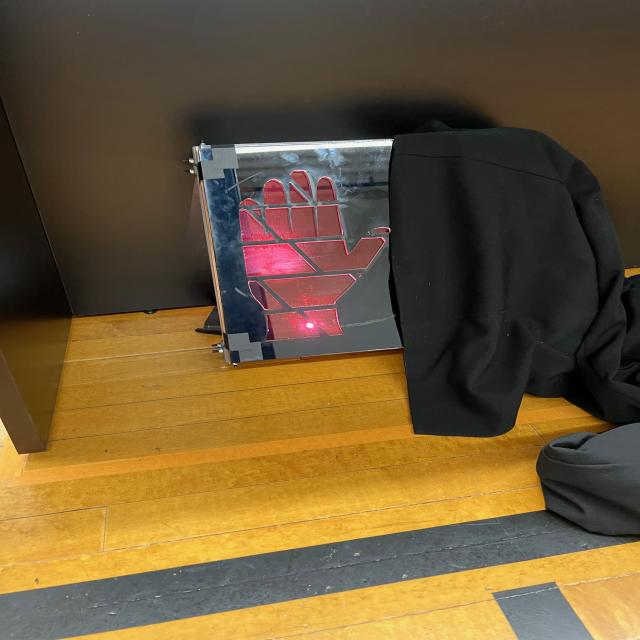stop: (184, 139, 405, 362)
